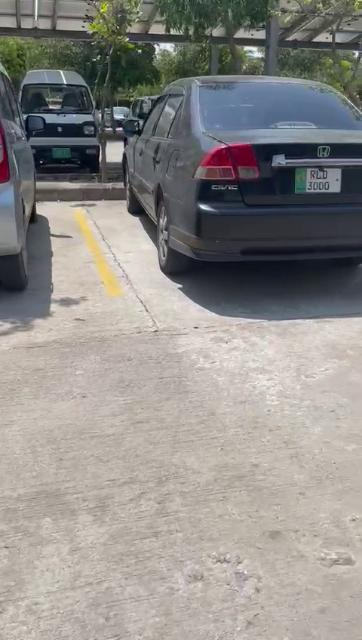plate: (294, 166, 348, 198)
